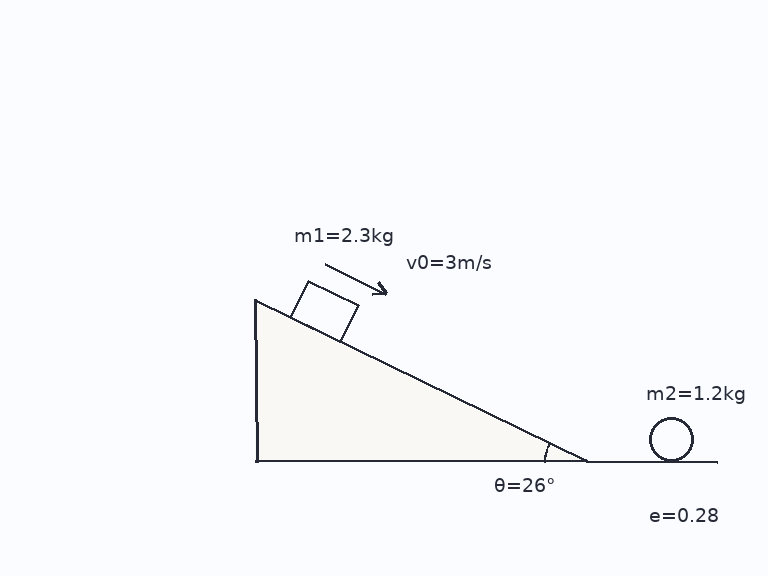ball: (647, 415, 695, 463)
block: (288, 278, 360, 343)
ramp: (253, 298, 587, 463)
